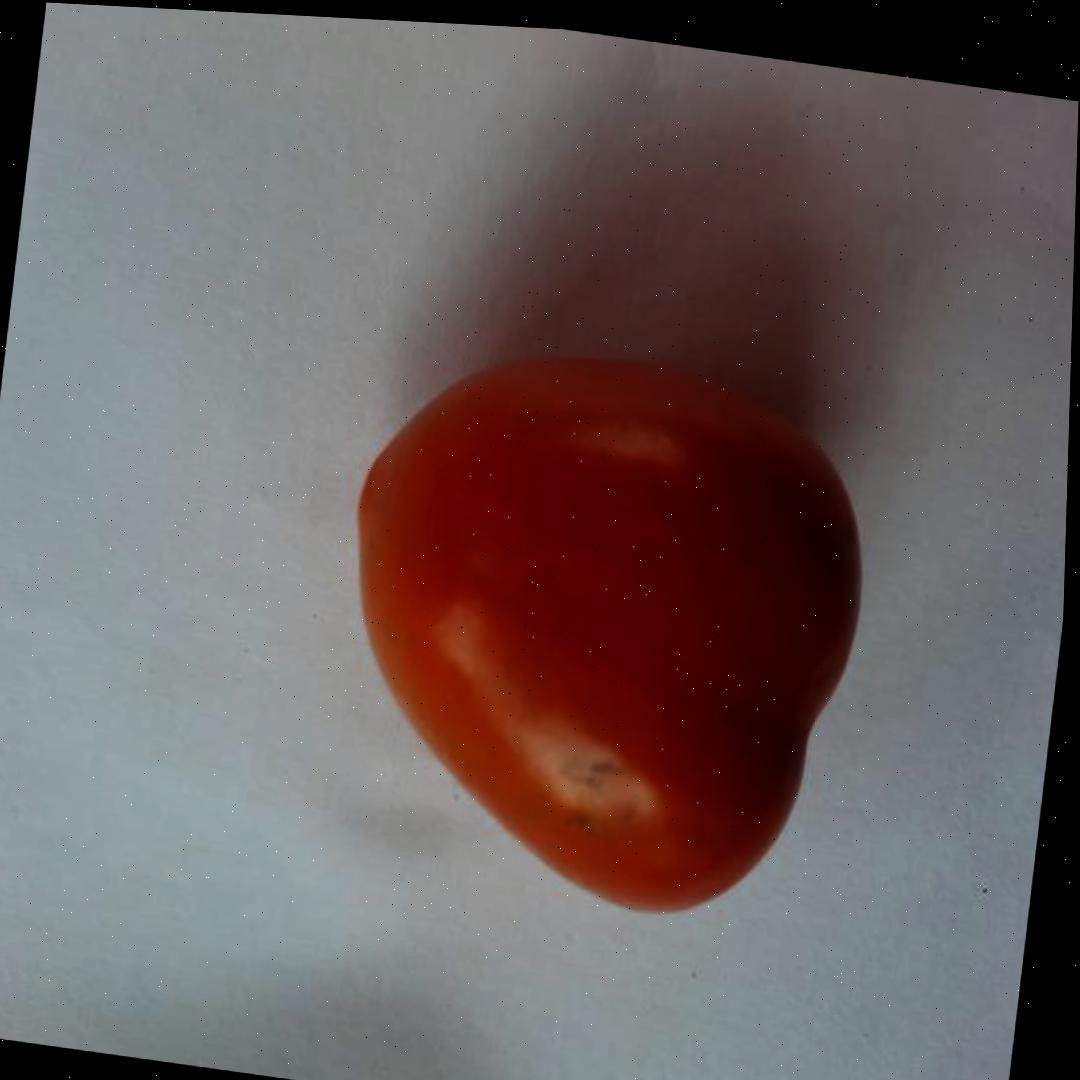setengah_matang: (310, 321, 890, 945)
